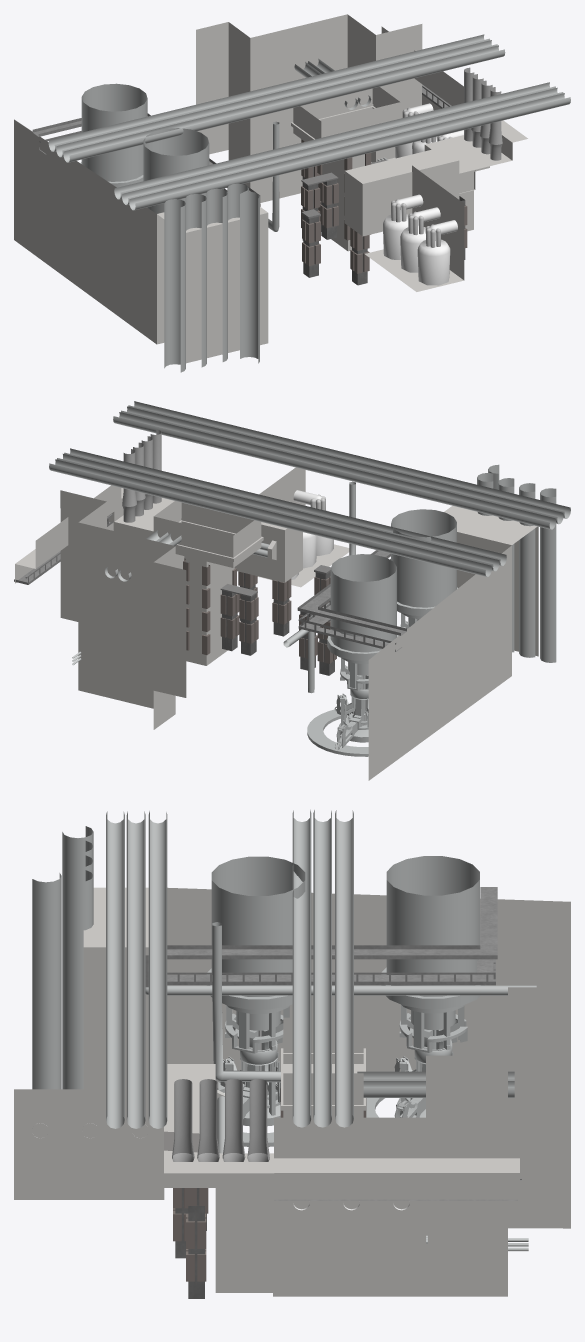
The model's file is 2-nd lvl.fbx.
The picture shows the model from 3 angles, top to bottom: view 1: azimuth 30°, elevation 25°; view 2: azimuth 150°, elevation 25°; view 3: azimuth 270°, elevation 25°; orthographic projection. The views are drawn at different scales.
Parts seen in each view (by area): view 1: 2_low, 1_low, 16_low, 12_low, 8_low, 13_low, 11_low, 6_low, 15_low, 14_low, 5_low, 7_low (+1 smaller); view 2: 2_low, 16_low, 1_low, 11_low, 12_low, 8_low, 13_low, 14_low, 15_low, 6_low, 4_low, 7_low; view 3: 16_low, 1_low, 2_low, 11_low, 12_low, 8_low, 15_low, 13_low, 14_low, 9_low, 7_low, 10_low.
Boxes of the visible parts, x1,y1,x2,y2 form: 2_low: (14, 113, 268, 363); 1_low: (260, 26, 527, 285); 16_low: (196, 14, 475, 202); 12_low: (114, 82, 570, 210); 8_low: (48, 34, 505, 162); 13_low: (164, 183, 259, 372); 11_low: (80, 83, 209, 213); 6_low: (383, 194, 457, 285); 15_low: (365, 165, 464, 291); 14_low: (464, 67, 502, 160); 5_low: (395, 103, 463, 158); 7_low: (268, 121, 279, 231); 2_low: (297, 505, 538, 780); 16_low: (60, 490, 186, 729); 1_low: (14, 485, 336, 675); 11_low: (307, 509, 457, 756); 12_low: (113, 401, 570, 529); 8_low: (49, 448, 506, 576); 13_low: (477, 464, 556, 662); 14_low: (122, 429, 161, 522); 15_low: (257, 467, 349, 587); 6_low: (272, 490, 333, 579); 4_low: (183, 560, 236, 654); 7_low: (308, 481, 355, 693); 16_low: (273, 987, 570, 1296); 1_low: (164, 1017, 521, 1298); 2_low: (83, 887, 570, 1089); 11_low: (207, 856, 484, 1146); 12_low: (106, 811, 167, 1128); 8_low: (292, 809, 353, 1127); 15_low: (14, 1089, 164, 1199); 13_low: (32, 826, 93, 1089); 14_low: (172, 1079, 269, 1161); 9_low: (145, 985, 536, 995); 7_low: (212, 922, 280, 1082); 10_low: (357, 1071, 514, 1097).
Size of the model in its own units: 89347 by 34753 by 68703.
Materials: 1 (1 with a texture image).
